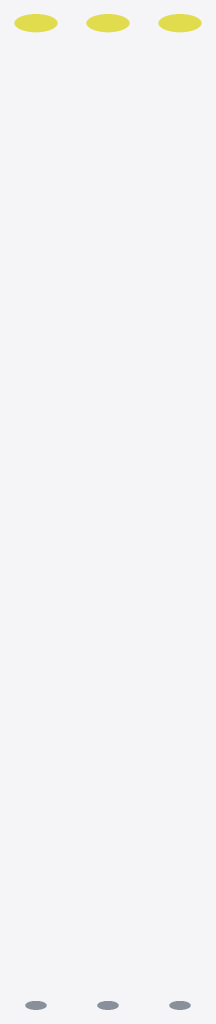
The model's file is sunAndMoon.fbx.
3 renders of one model, left to right at view 1: azimuth 90°, elevation 25°; view 2: azimuth 150°, elevation 25°; view 3: azimuth 270°, elevation 25°, orthographic.
Parts seen in each view (by area): view 1: Circle; view 2: Circle; view 3: Circle.
Boxes of the visible parts, x1,y1,x2,y2 form: Circle: (14,14,57,1009); Circle: (86,14,129,1009); Circle: (158,14,201,1009).
Bounding box in the file's own units: 400 × 10000 × 400.
1 material, 1 textured.
